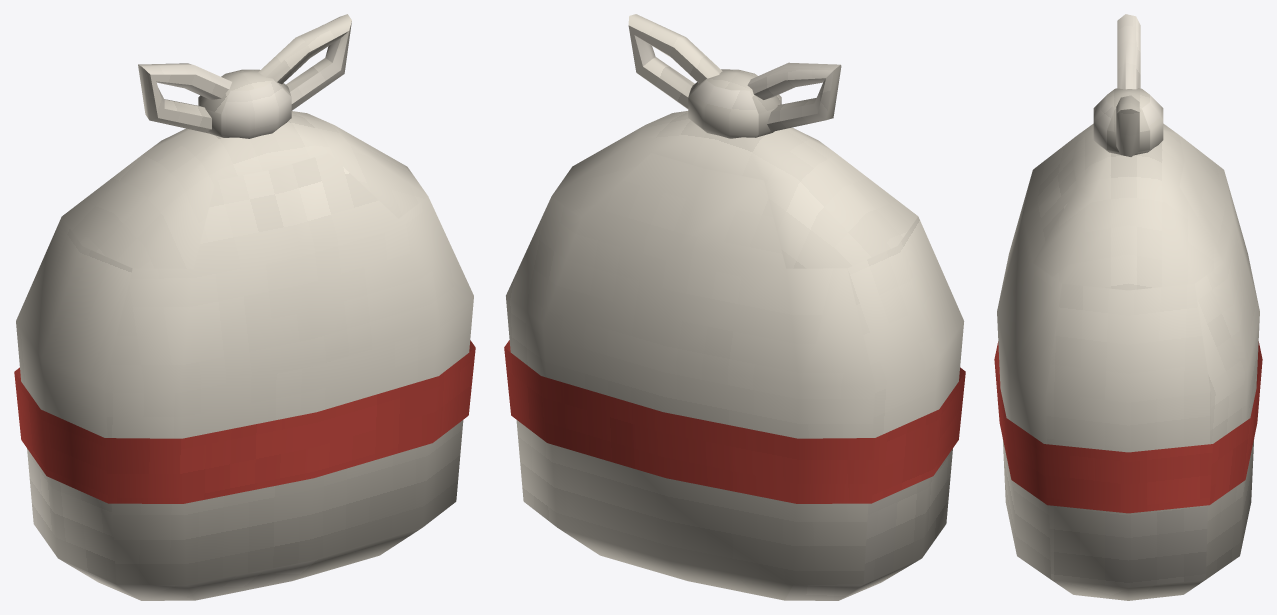
Rendered from takeaway_bag.glb.
The picture shows the model from 3 angles, left to right: view 1: azimuth 30°, elevation 25°; view 2: azimuth 150°, elevation 25°; view 3: azimuth 270°, elevation 25°; orthographic projection. The views are drawn at different scales.
Visible parts, largest first — view 1: takeaway_bag; view 2: takeaway_bag; view 3: takeaway_bag.
Boxes of the visible parts, x1=… form: takeaway_bag: x1=14, y1=14, x2=475, y2=600; takeaway_bag: x1=504, y1=14, x2=965, y2=600; takeaway_bag: x1=994, y1=14, x2=1262, y2=600.
Size of the model in its own units: 0.251 by 0.2975 by 0.153.
2 materials, 2 textured.
